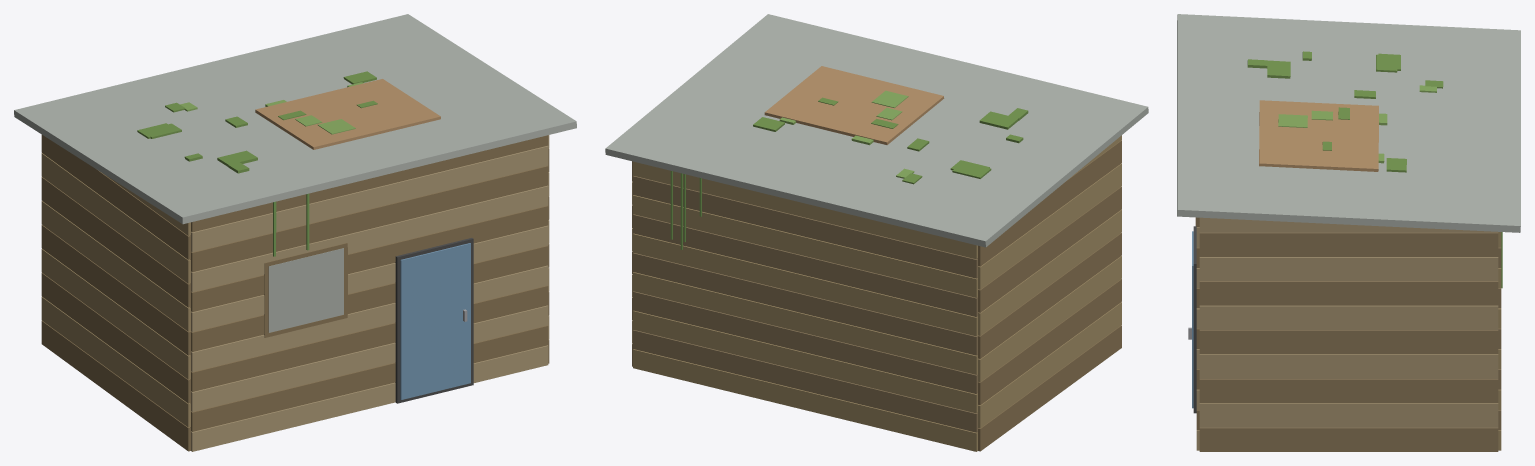
Rendered from House2.fbx.
3 views of the same model, side by side, from view 1: azimuth 30°, elevation 25°; view 2: azimuth 150°, elevation 25°; view 3: azimuth 270°, elevation 25° (orthographic). The views are drawn at different scales.
Visible parts, largest first — view 1: LS_Roof; view 2: LS_Roof; view 3: LS_Roof.
Boxes of the visible parts, box(x1,y1,x2,y2) form: LS_Roof: box(14, 14, 576, 451); LS_Roof: box(605, 14, 1148, 451); LS_Roof: box(1177, 14, 1520, 451).
Size of the model in its own units: 5.38 by 3.21 by 3.99.
